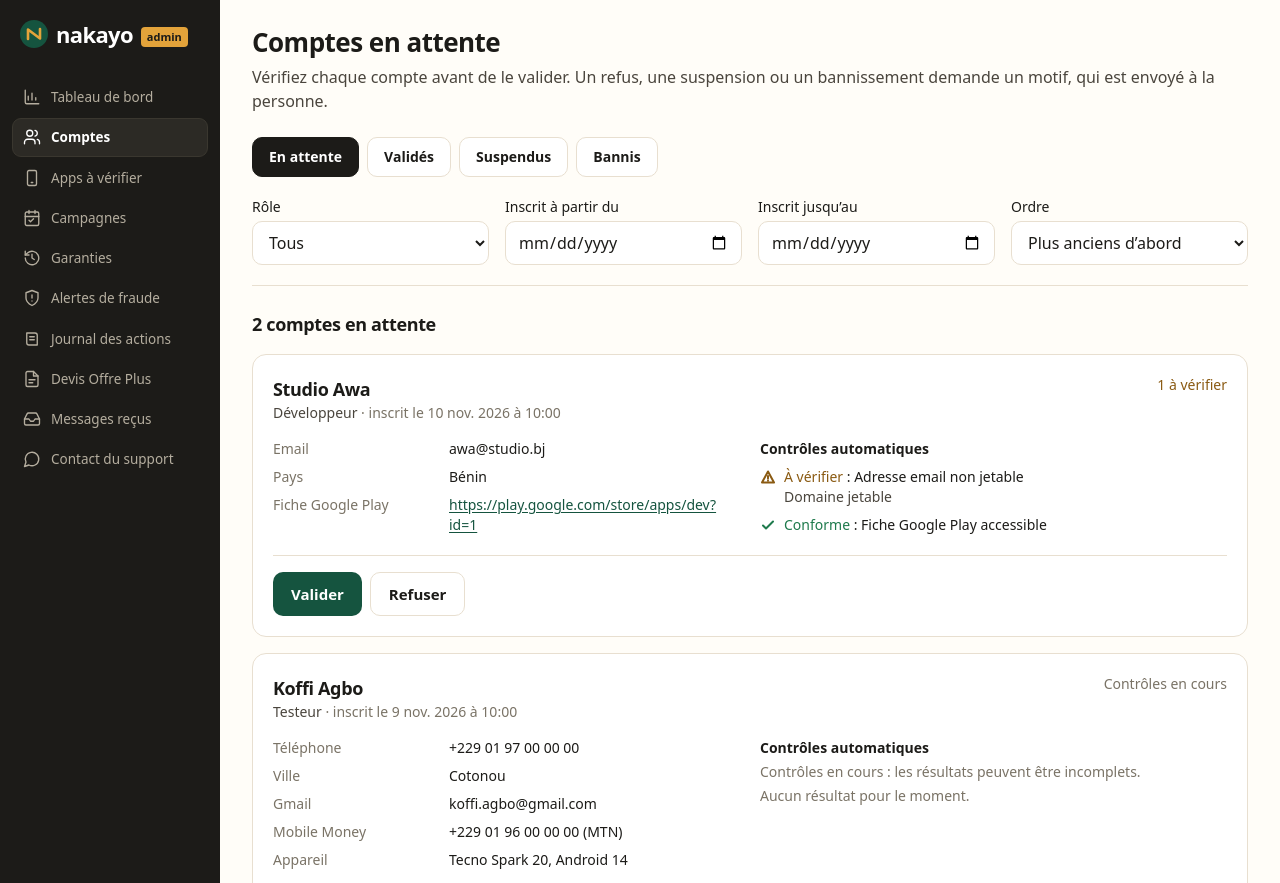
Back-office : comptes en attente (US-08) › garde le compte et affiche l’erreur si la validation échoue
Click the button with aria-label "Valider le compte de Studio Awa" at coordinates (317, 594), box [273, 572, 362, 616]
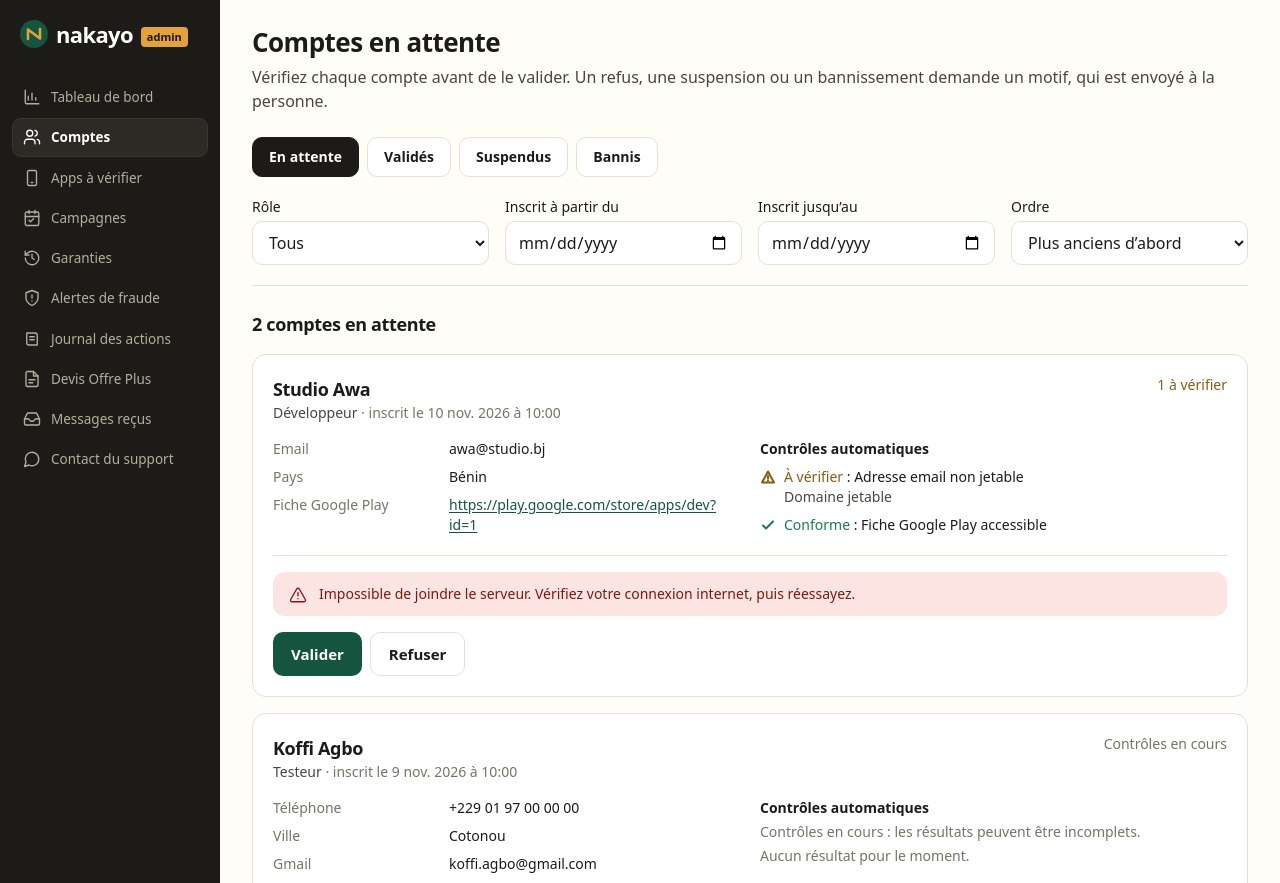
Expected: the button with aria-label "Valider le compte de Studio Awa" is enabled, [273, 632, 362, 676]
Expected: the message shows "Impossible de joindre le serveur", [319, 584, 855, 603]
